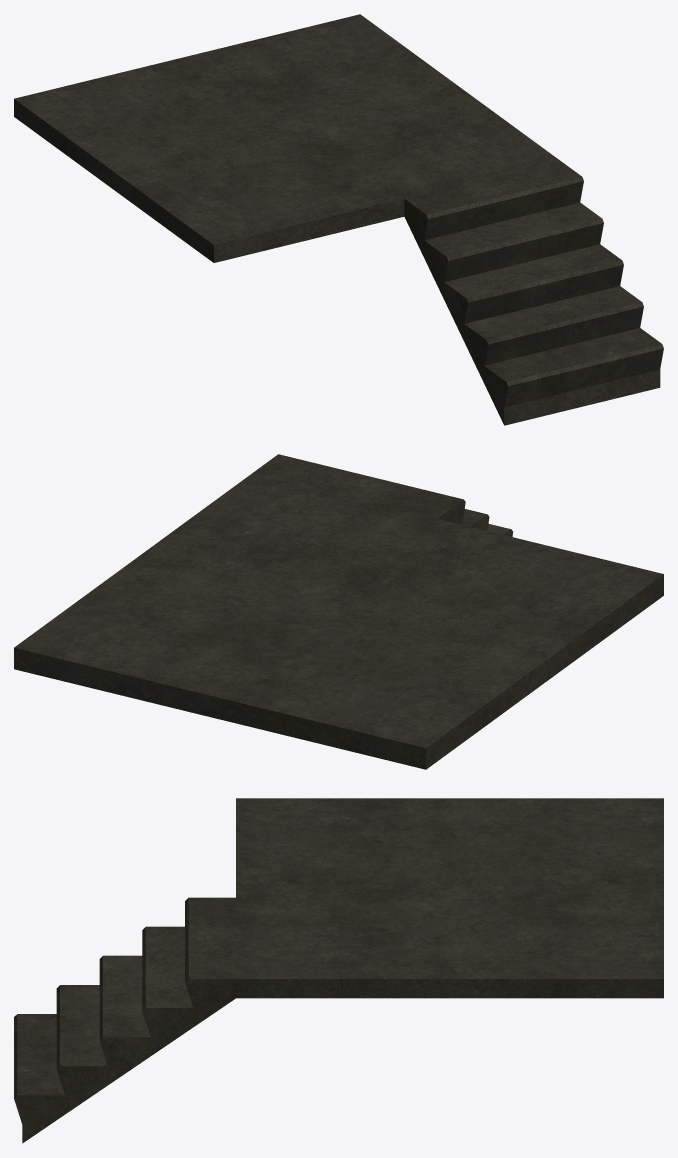
Rendered from stairs_2.dae.
3 views of the same model, one above another, from view 1: azimuth 30°, elevation 25°; view 2: azimuth 150°, elevation 25°; view 3: azimuth 270°, elevation 25° (orthographic). The views are drawn at different scales.
Visible parts, largest first — view 1: stairs_2; view 2: stairs_2; view 3: stairs_2.
Part boxes in pixels (bbox=[...]): stairs_2: bbox=[14, 14, 663, 425]; stairs_2: bbox=[14, 454, 663, 769]; stairs_2: bbox=[14, 798, 663, 1143].
Bounding box in the file's own units: 4 × 6.08 × 1.7.
Materials: 1 (1 with a texture image).
